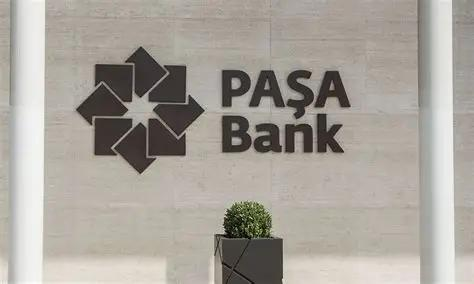Pasha Bank: (74, 43, 206, 177)
